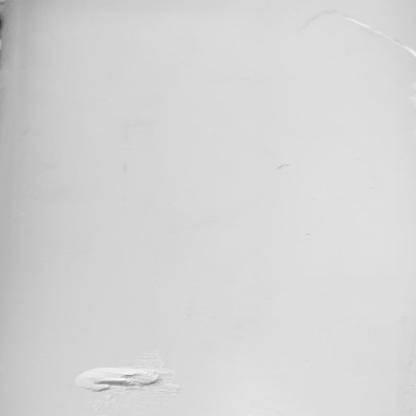sunshang: (345, 16, 416, 60), (76, 366, 163, 393)
